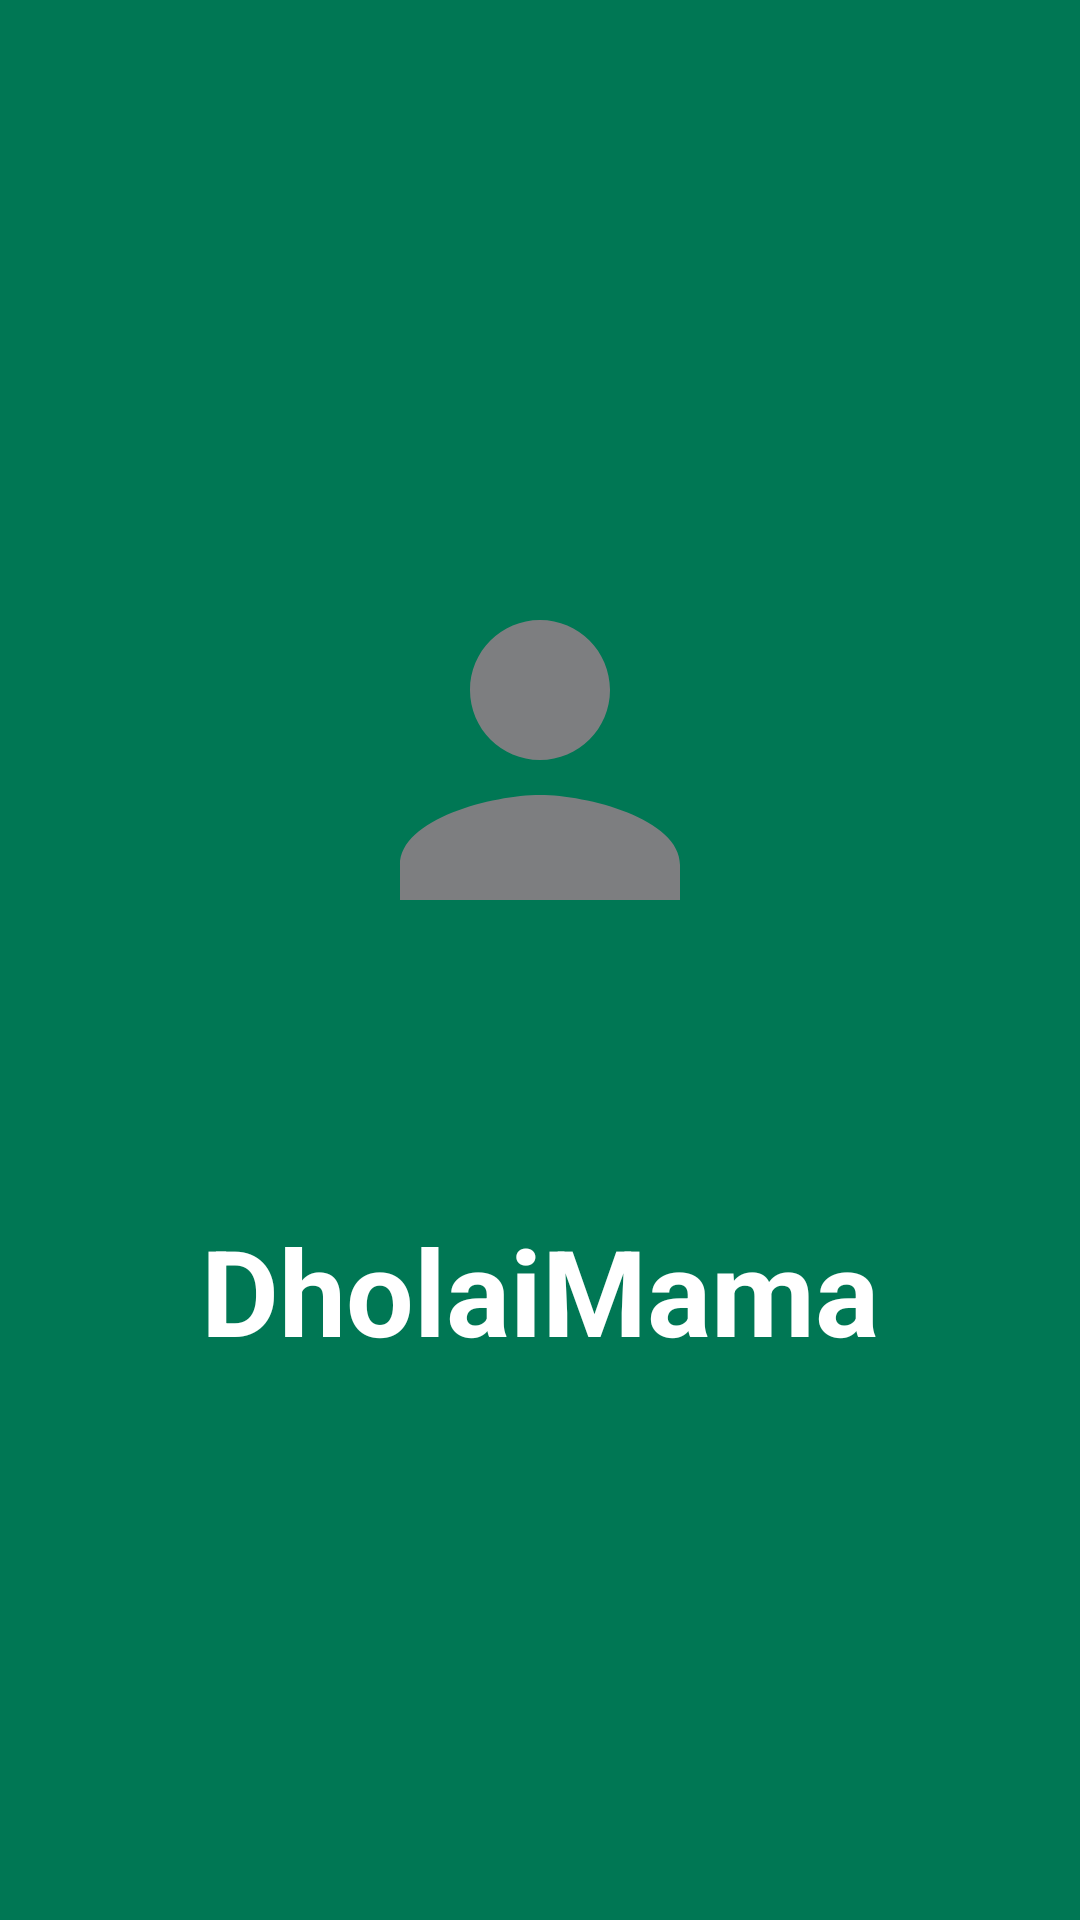

Where icons sit on this 1080×1920 app screen, as (left=x1, top=y1, right=x2, bottom=y2):
person: (left=400, top=620, right=680, bottom=900)
